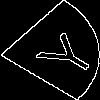Y: (25, 25, 100, 81)
